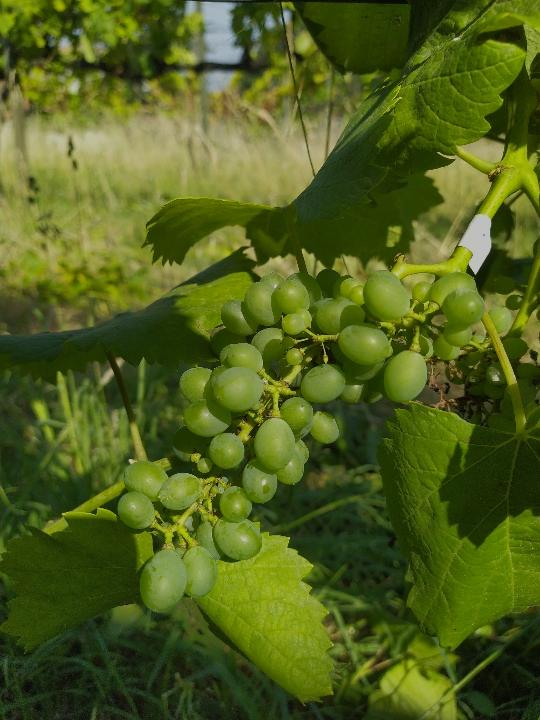grape: (112, 259, 491, 624)
